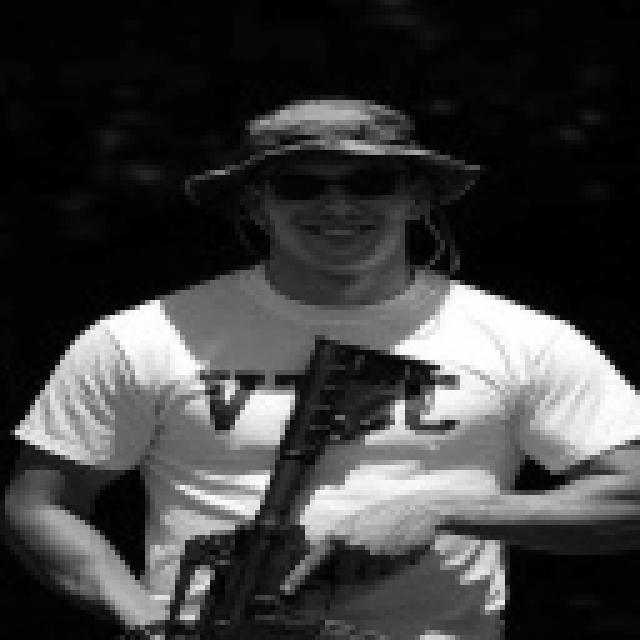Rifle: (128, 314, 498, 640)
